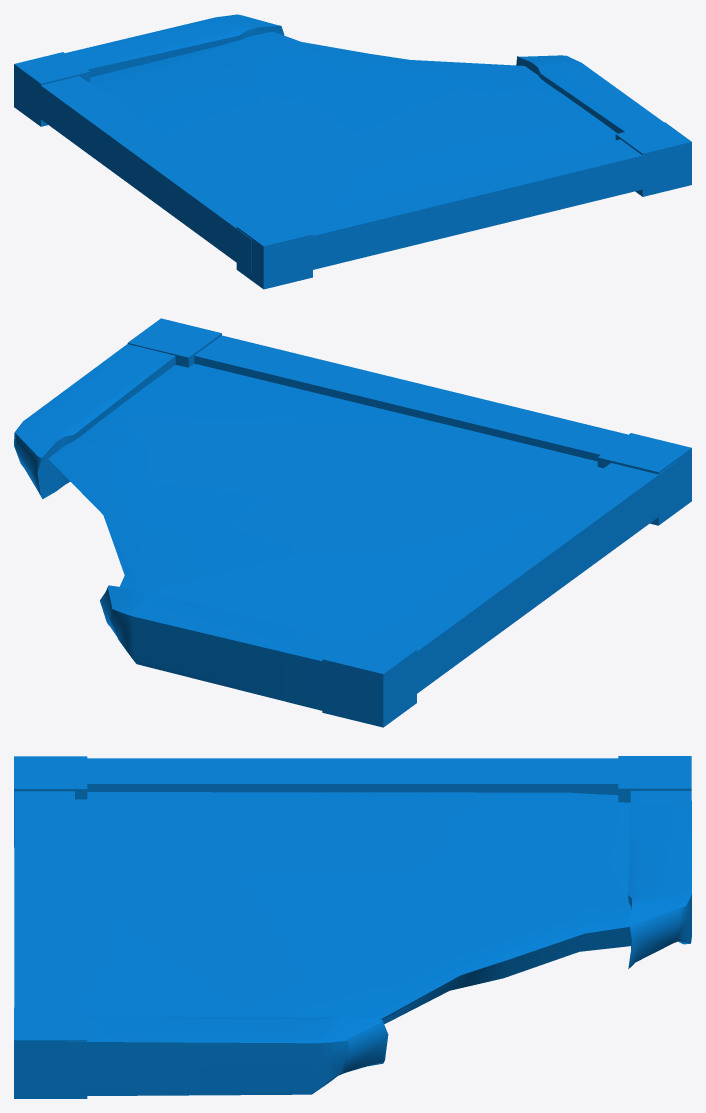
The model's file is Floor_07.fbx.
The picture shows the model from 3 angles, top to bottom: view 1: azimuth 30°, elevation 25°; view 2: azimuth 150°, elevation 25°; view 3: azimuth 270°, elevation 25°; orthographic projection. The views are drawn at different scales.
Visible parts, largest first — view 1: Floor_07; view 2: Floor_07; view 3: Floor_07.
Boxes of the visible parts, x1=… form: Floor_07: x1=14, y1=14, x2=691, y2=289; Floor_07: x1=14, y1=318, x2=691, y2=727; Floor_07: x1=14, y1=756, x2=691, y2=1098.
Bounding box in the file's own units: 1524 × 146 × 1535.
